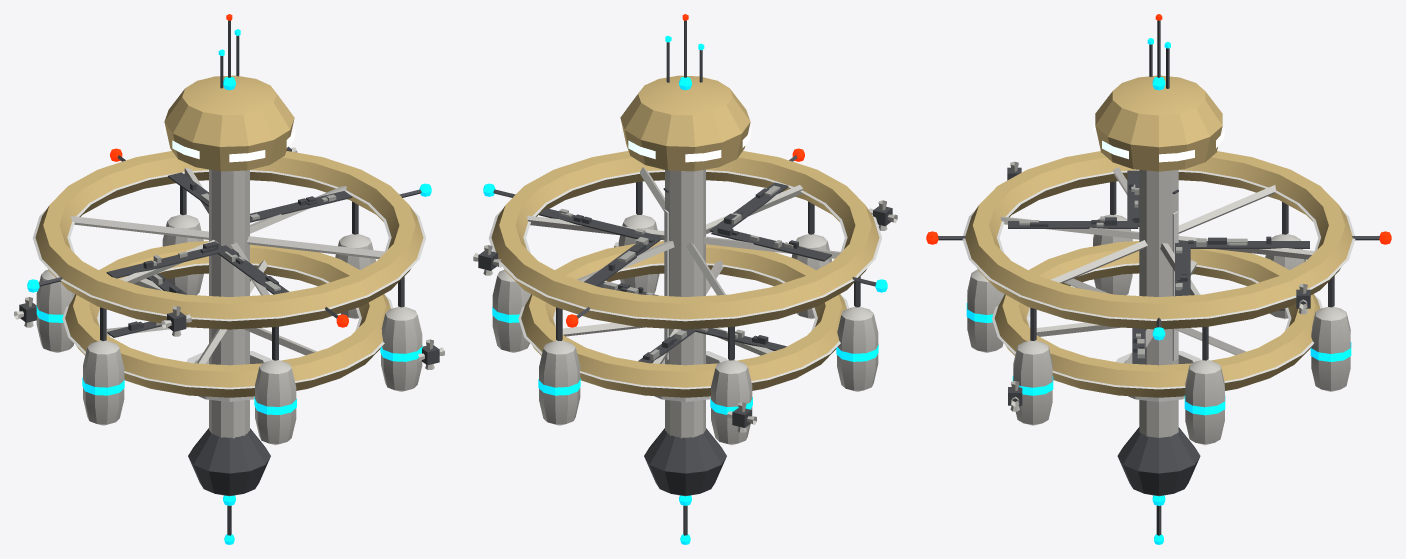
The model's file is platinum_refinery.glb.
3 views of the same model, side by side, from view 1: azimuth 30°, elevation 25°; view 2: azimuth 150°, elevation 25°; view 3: azimuth 270°, elevation 25° (orthographic).
Visible parts, largest first — view 1: platinum_refinery; view 2: platinum_refinery; view 3: platinum_refinery.
Part boxes in pixels (x1=…): platinum_refinery: x1=14, y1=14, x2=444, y2=544; platinum_refinery: x1=473, y1=14, x2=897, y2=544; platinum_refinery: x1=926, y1=14, x2=1391, y2=544.
Size of the model in its own units: 2 by 2.51 by 1.99.
